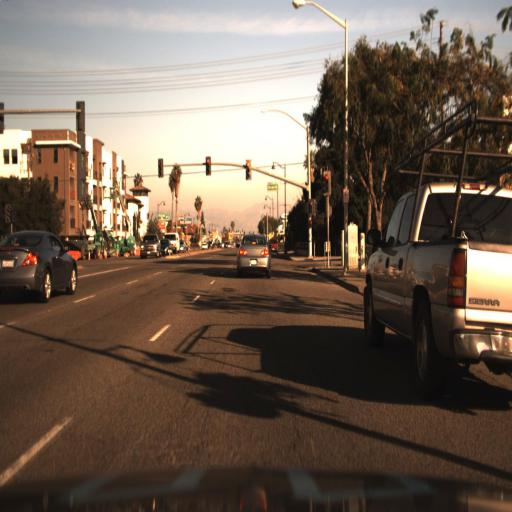car: (360, 168, 512, 390), (0, 224, 76, 306), (236, 232, 271, 278), (139, 232, 162, 260), (171, 228, 179, 257)
trafficLight: (241, 154, 254, 182)
trafficLight-Red: (322, 168, 332, 204), (202, 154, 212, 180), (308, 193, 317, 214)
